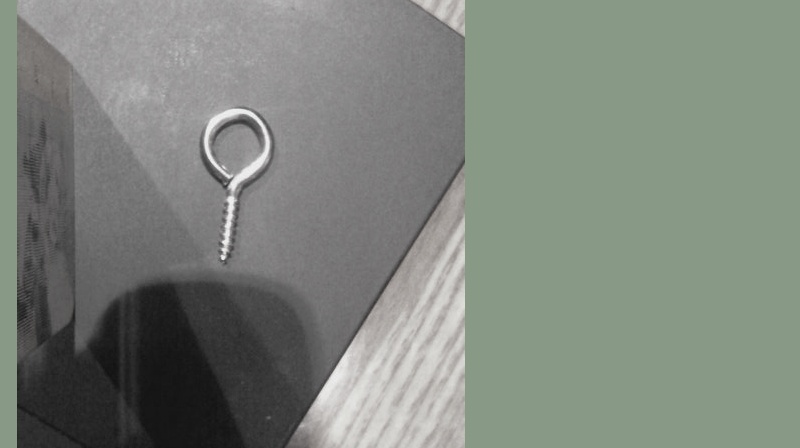O001: (192, 103, 278, 266)
